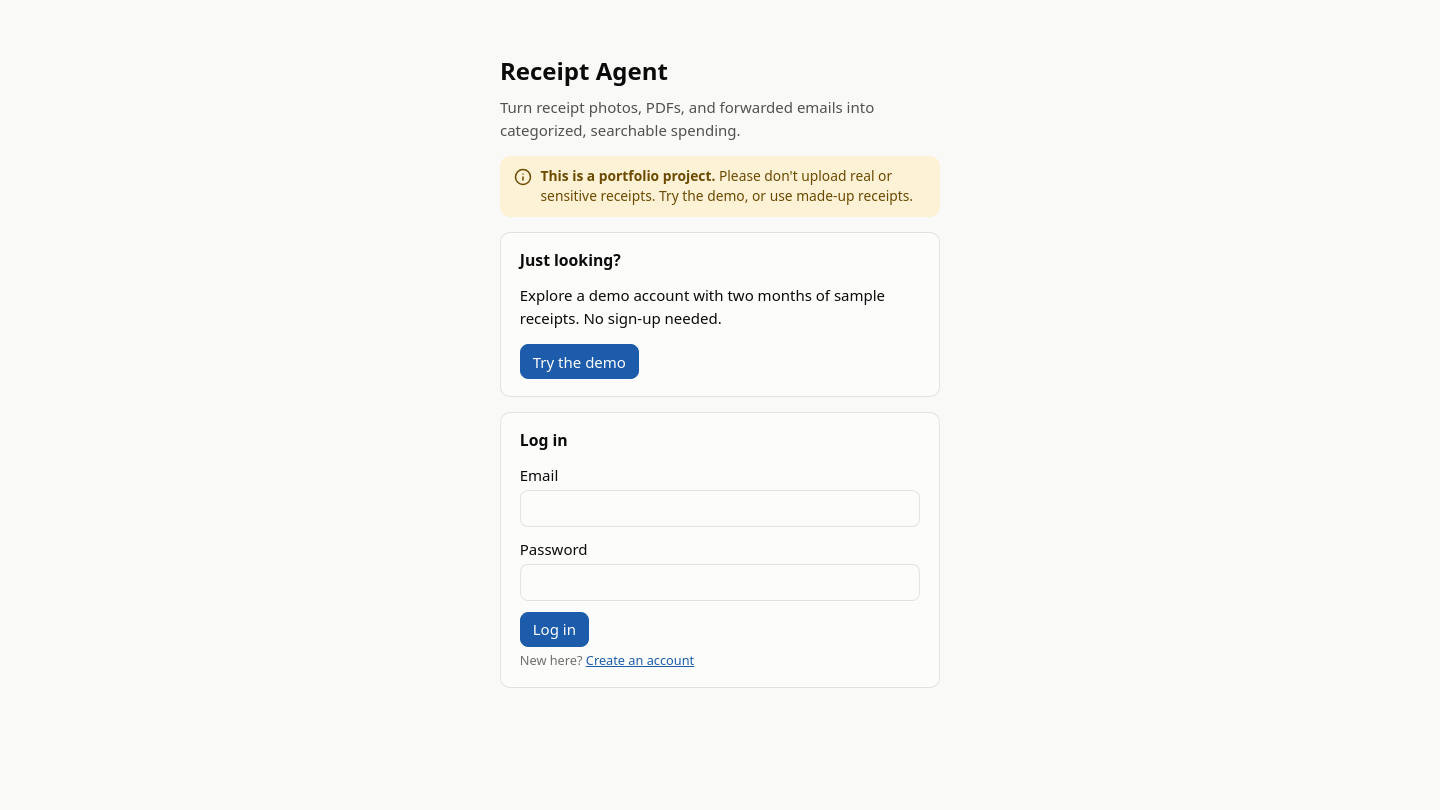
Test: can switch to creating an account
Click the button "Create an account" at (640, 660), box [586,651,694,670]
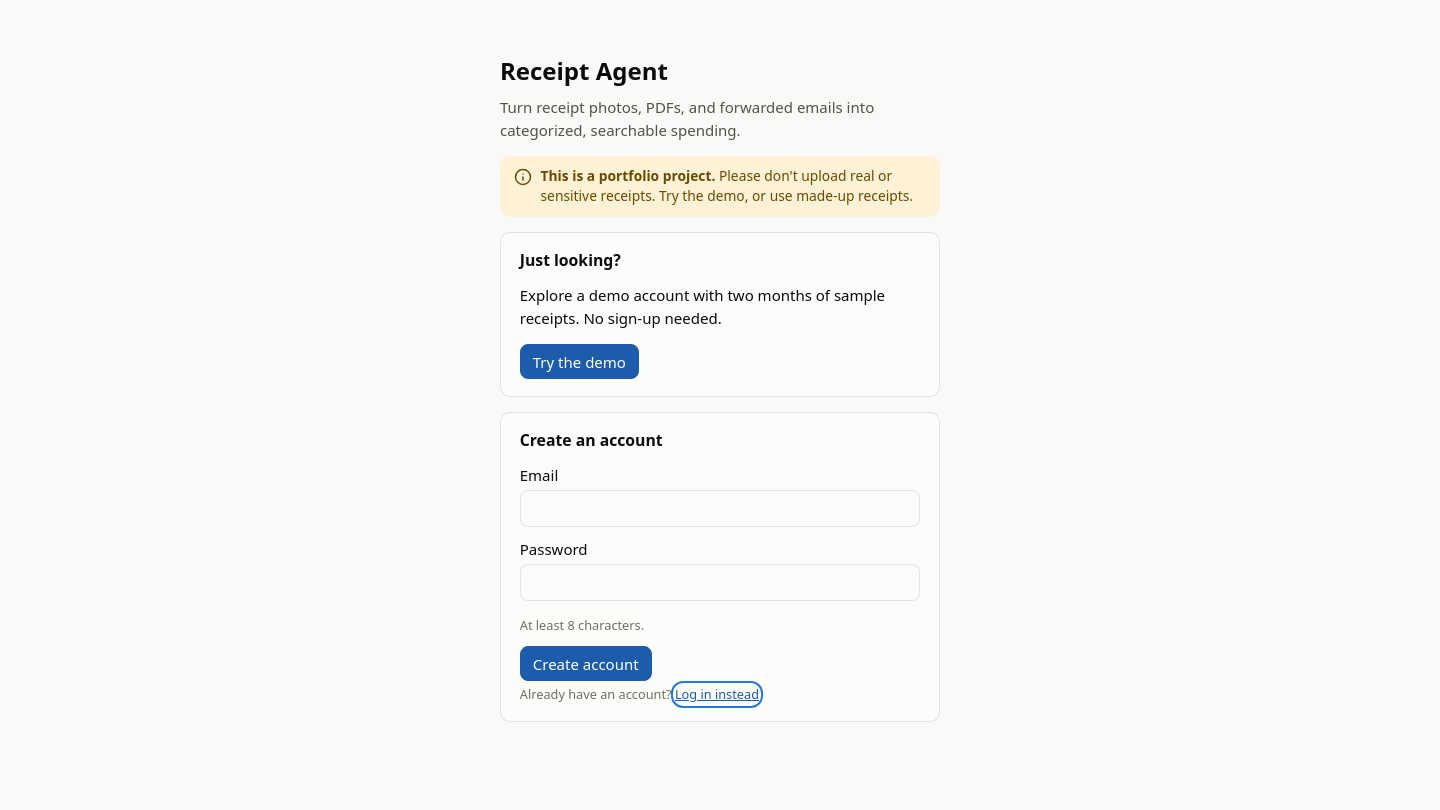
Type "new@example.com" into the field labelled "Email" at (720, 509), box [520,490,920,527]
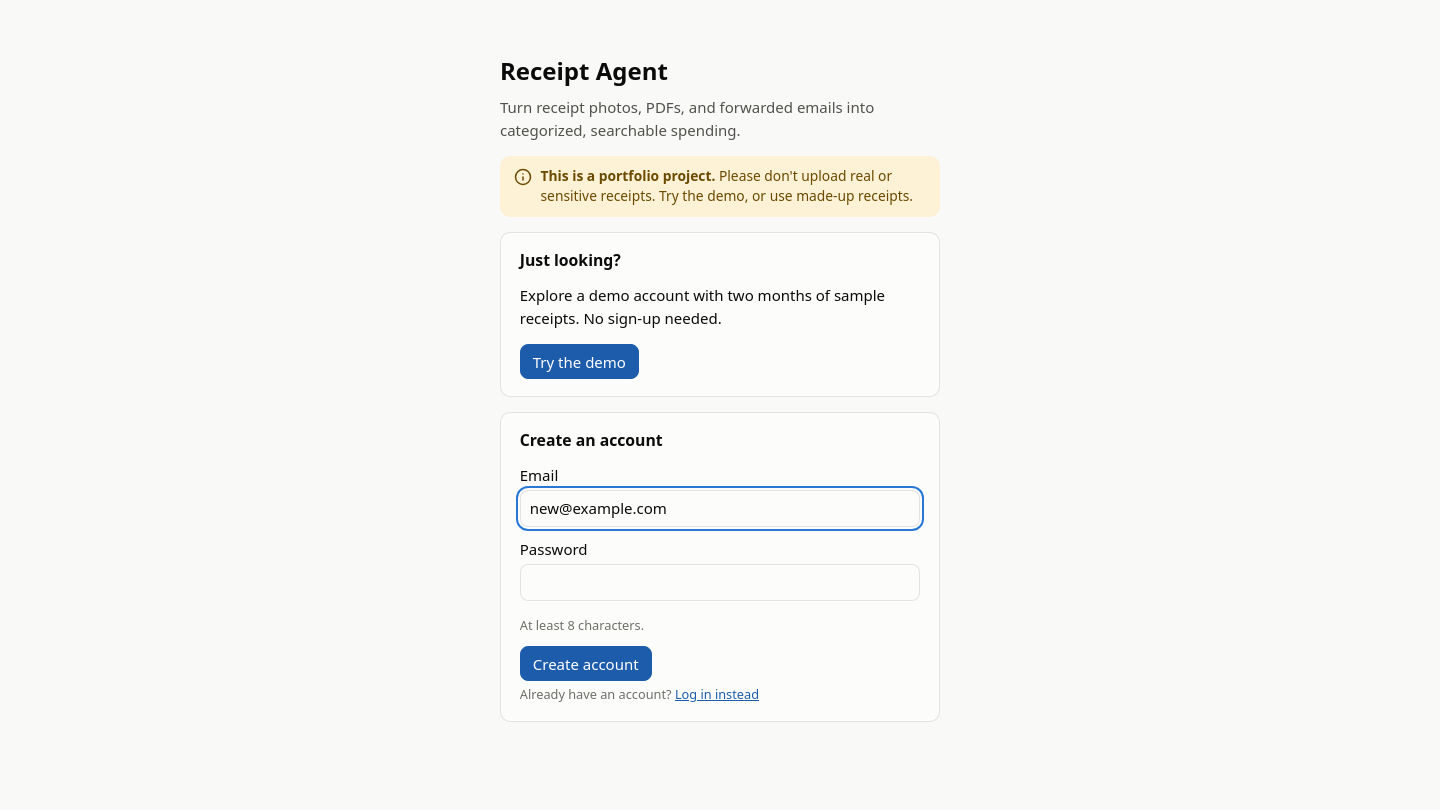
Type "a long enough password" into the password field labelled "Password" at (720, 583), box [520,564,920,601]
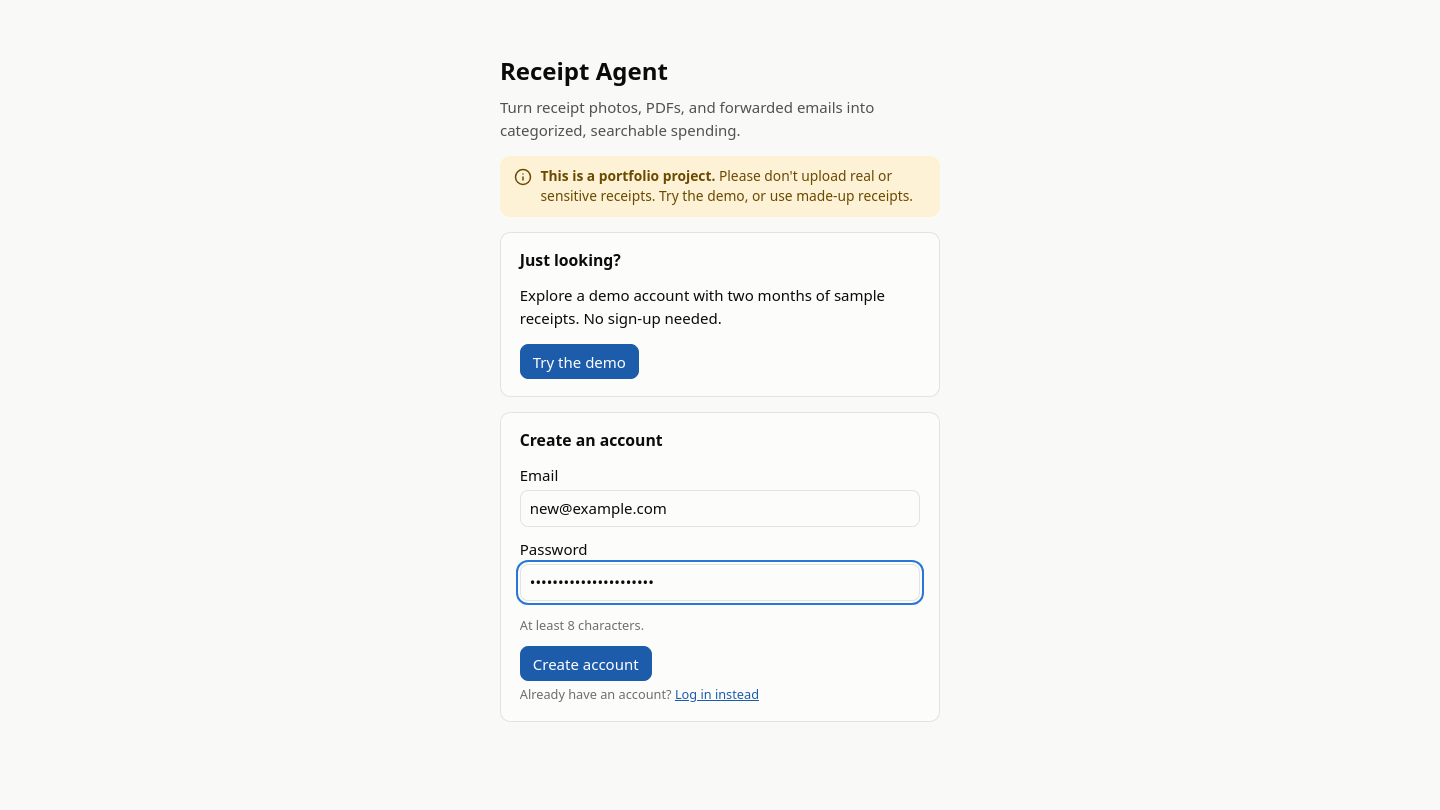
Click the button "Create account" at (586, 664), box [520,646,652,681]
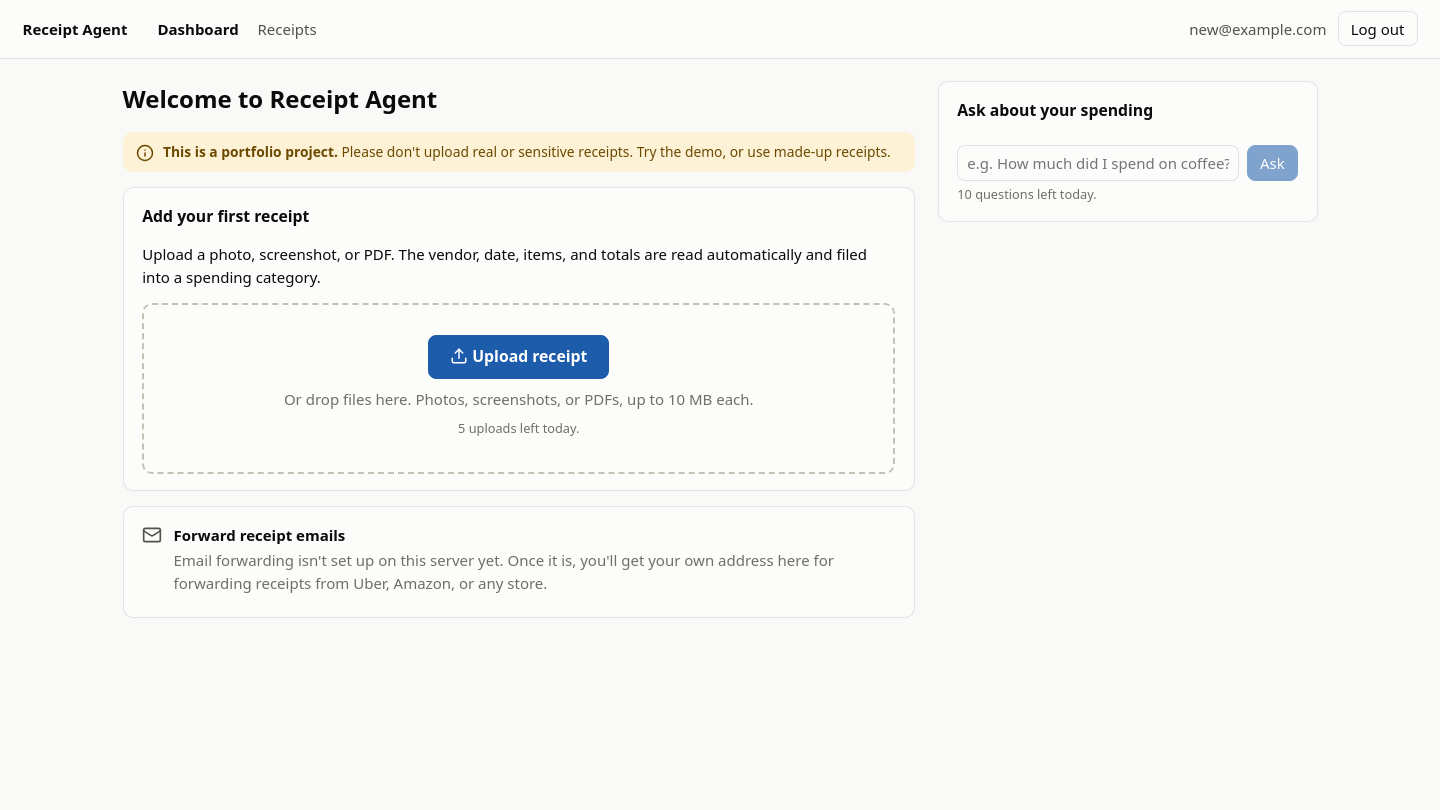
Result: the link "new@example.com" is shown at [1189,18,1326,40]
